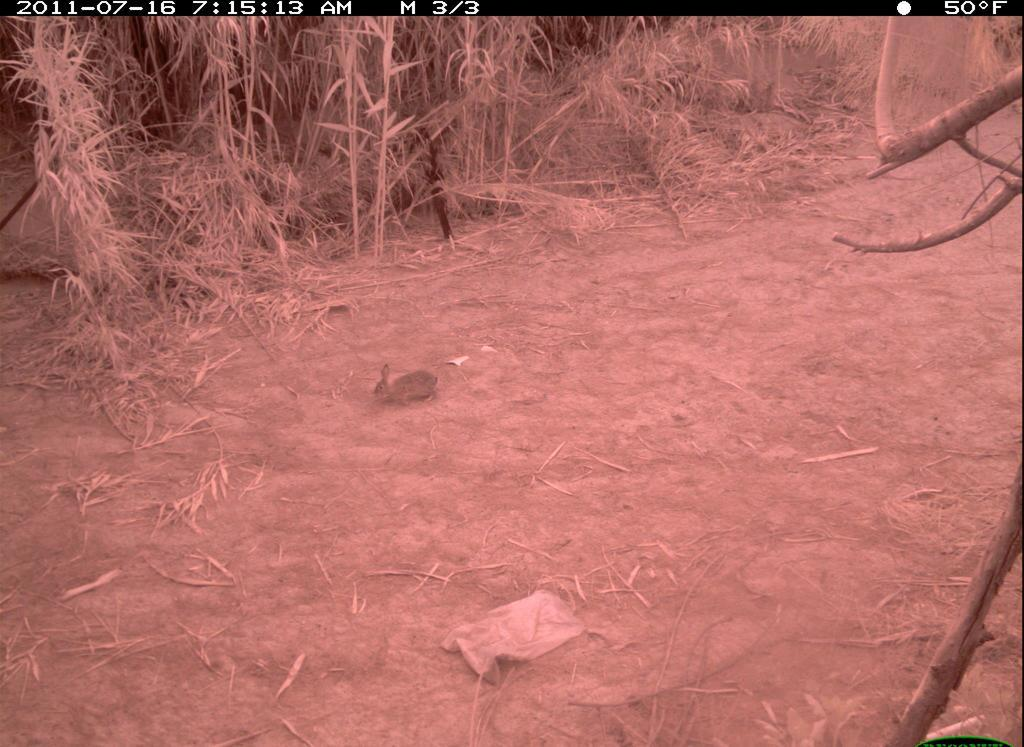rabbit: (370, 355, 442, 410)
